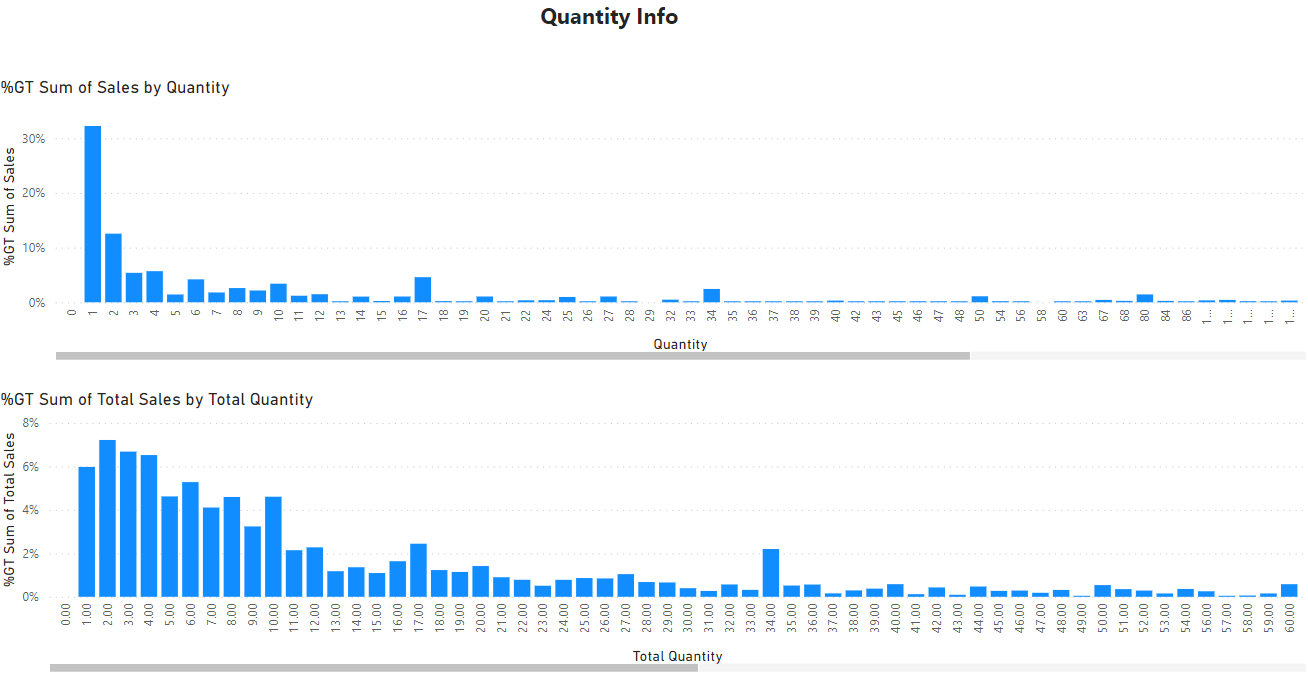

This screenshot's page, from the dashboard's own definition file:
{"tool":"powerbi","page":{"name":"Quantity Info","canvas":[1280,720],"ordinal":3},"visuals":[{"type":"clusteredColumnChart","fields":{"Y":["Sum(Sales.Sales)"],"Category":["Sales.Quantity"]},"box":[9.7,0,1056.3,280.1],"z":0},{"type":"clusteredColumnChart","fields":{"Y":["CountNonNull(Invoice Totals.Total Sales )"],"Category":["Invoice Totals.Total Quantity"]},"box":[10,290,1056,280],"z":1000}]}

Visuals, with their boxes on the page's 1280x720 design canvas (x1, y1, x2, y2). These are canvas units, not pixel positions in the 1308x687 screenshot, which may show the page scaled, cropped or inside an application window:
clusteredColumnChart - Sum(Sales.Sales) x Sales.Quantity: 10, 0, 1066, 280
clusteredColumnChart - CountNonNull(Invoice Totals.Total Sales ) x Invoice Totals.Total Quantity: 10, 290, 1066, 570
